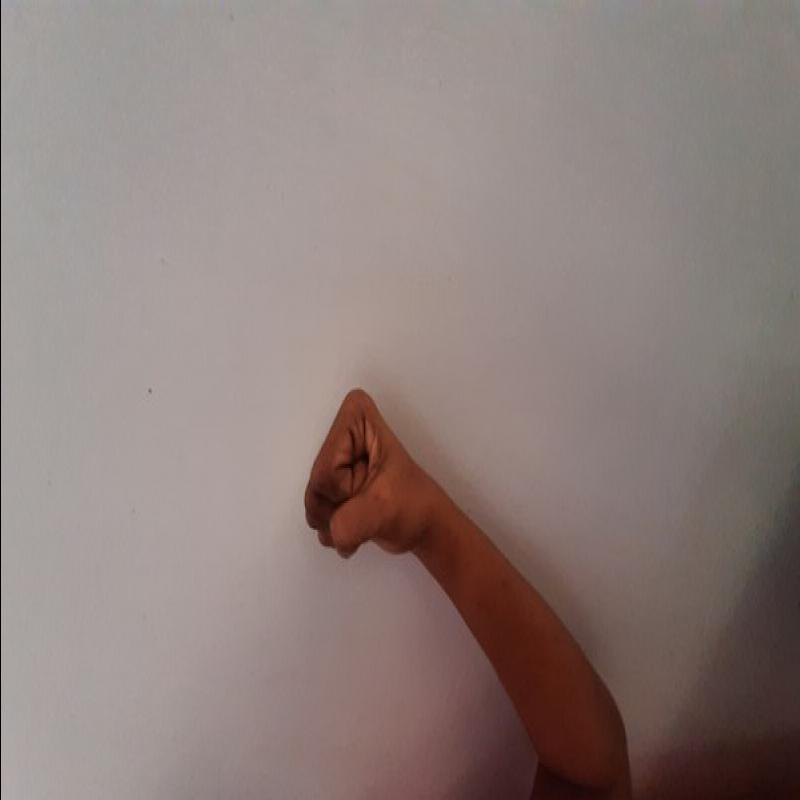Mushti: (288, 378, 449, 567)
